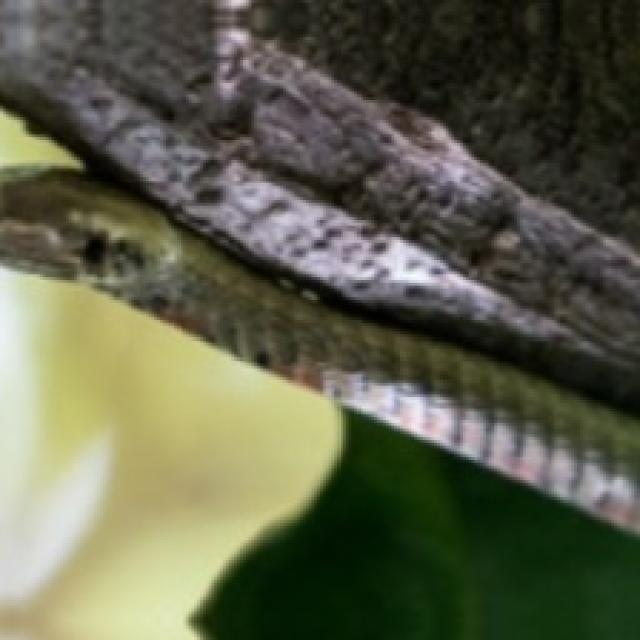paradise tree snake: (0, 170, 640, 532)
